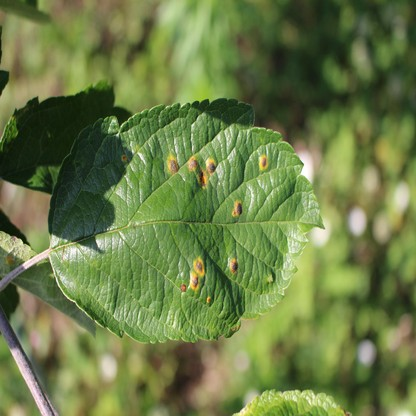rust: (194, 255, 204, 276), (167, 155, 178, 173), (232, 199, 243, 216), (190, 271, 199, 290), (206, 156, 216, 171), (198, 173, 208, 187), (230, 259, 238, 276), (259, 156, 268, 171), (188, 158, 198, 171), (120, 151, 128, 162), (6, 255, 12, 263), (181, 284, 186, 293), (206, 297, 211, 303)
